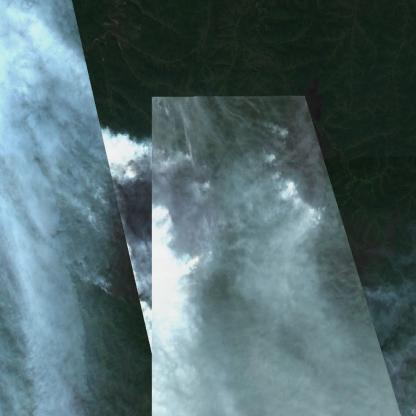fire: (98, 146, 214, 305), (276, 132, 328, 226)
